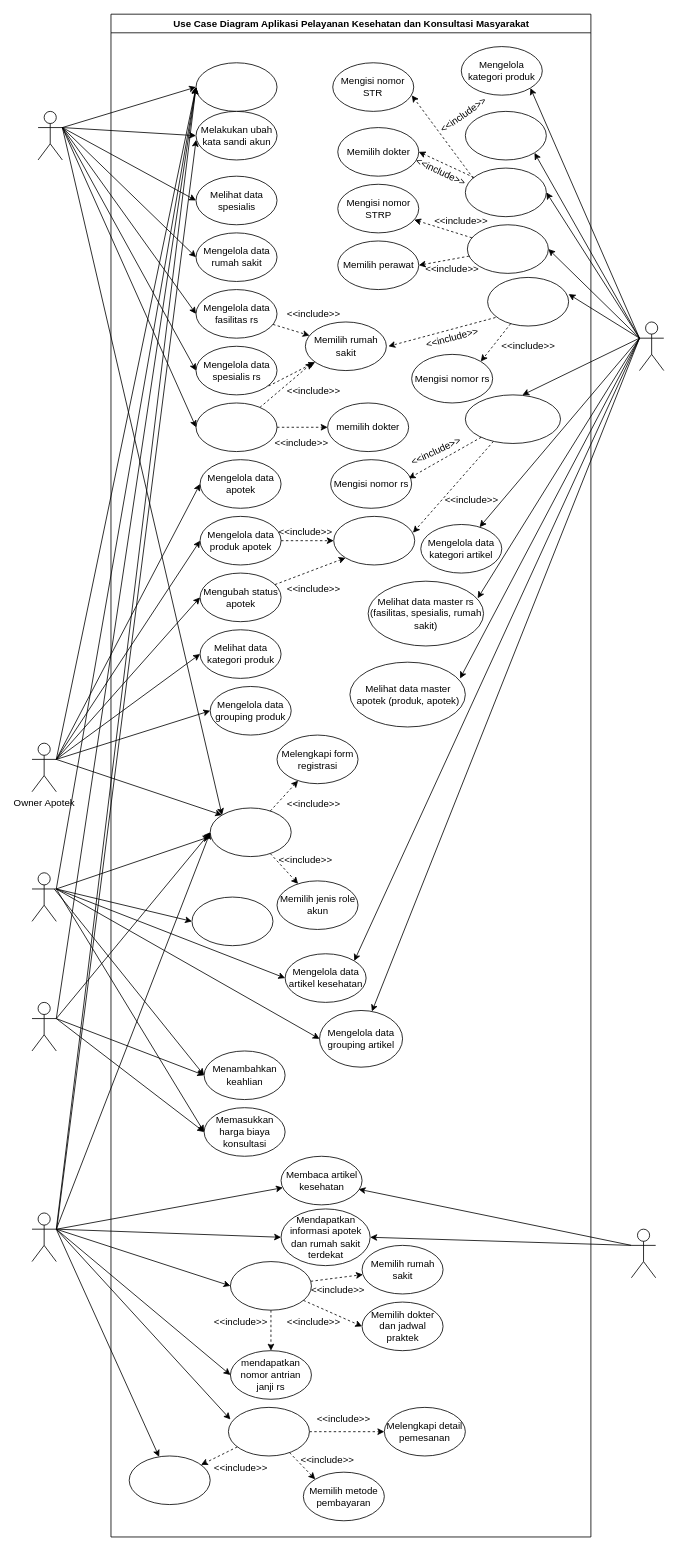
The diagram is 694 pixels wide and 1551 high, and some of its shapes have lost their labels. Here are the shapes that lost their labels. From the top down, the centre of each, then its label:
At (236,86): "Melakukan ubah profil akun".
At (49,135): "Owner rs".
At (505,135): "Mengelola data spesialis".
At (505,192): "Mengubah status akun dokter".
At (507,248): "Mengubah status akun perawat".
At (528,301): "Mengubah status akun owner rs".
At (651,346): "Administrator".
At (236,427): "Mengelola jadwal praktek dokter rs".
At (513,418): "Mengubah status akun owner apotek".
At (374,540): "Memilih apotek".
At (250,832): "Registrasi Akun".
At (43,896): "Dokter".
At (232,921): "Melihat kategori artikel".
At (43,1026): "Perawat".
At (43,1237): "Member".
At (643,1253): "Guest".
At (270,1285): "Membuat janji rs".
At (268,1431): "Memesan produk obat dan vitamin".
At (169,1480): "Melakukan pembayaran".
